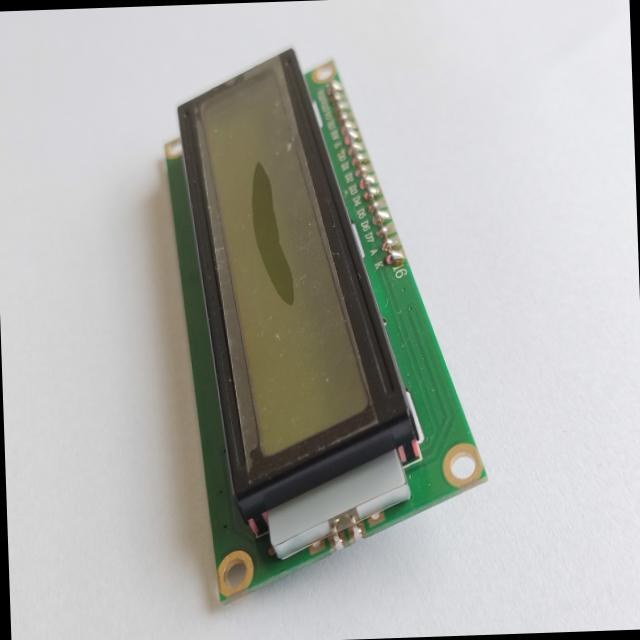lcd: (159, 40, 492, 606)
